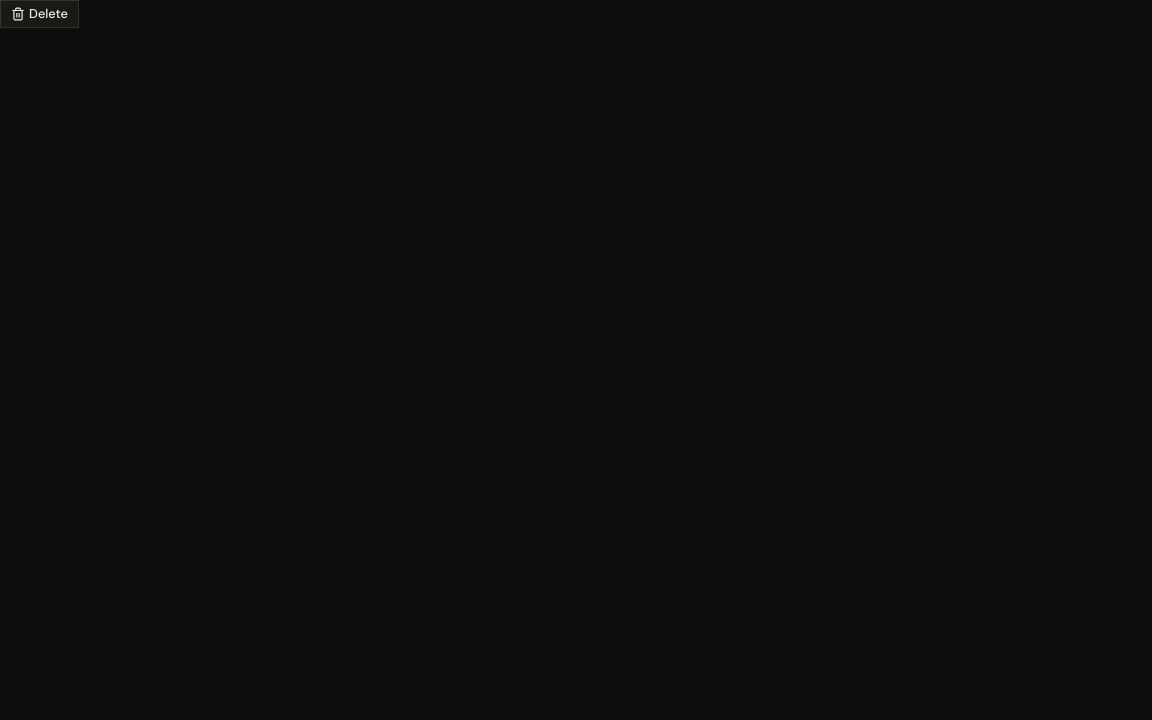
Scenario: DeleteKnowledgeBaseButton › warns how many chats will stop searching it
This screenshot has width=1152, height=720.
Click the button "Delete". click: [40, 14]
box: [0,0,79,28]
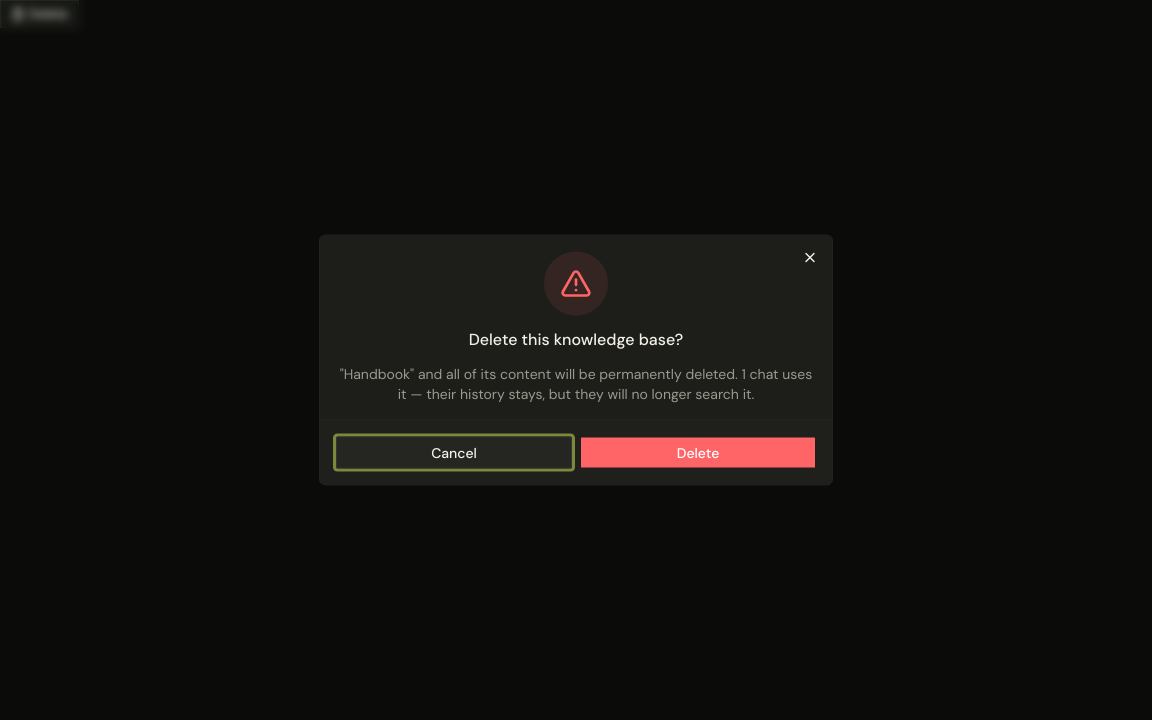
expect the text "1 chat uses it" is shown: met, box [340,364,812,402]
